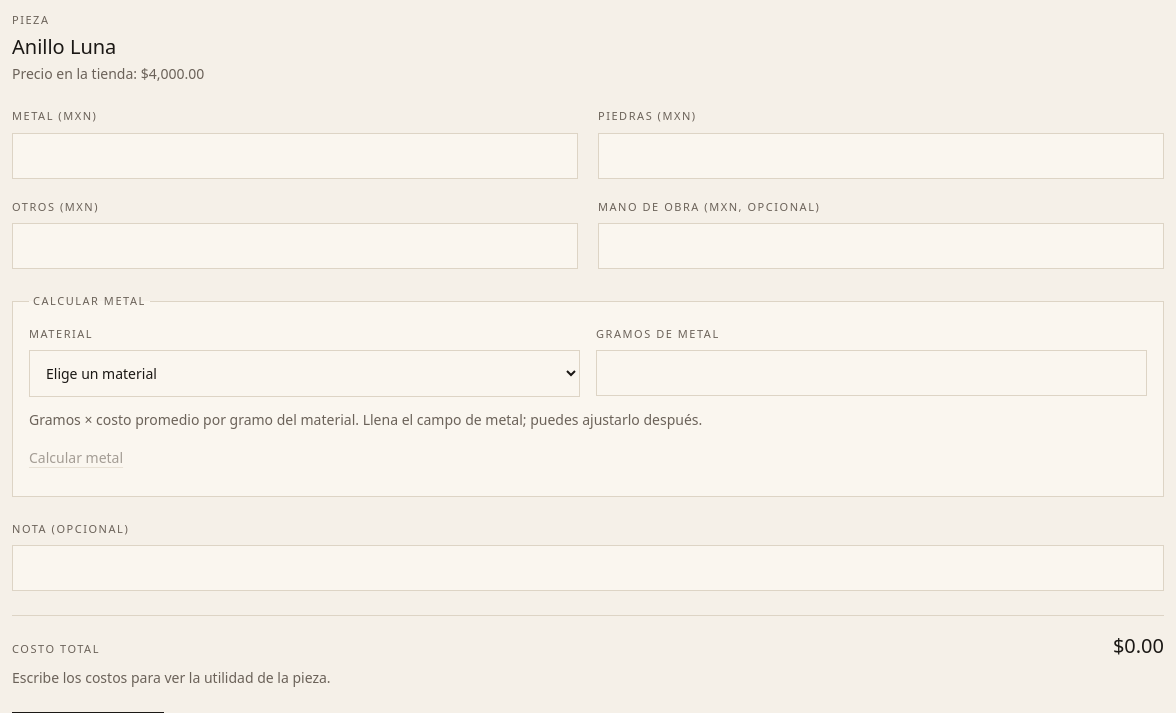
Test case: PieceCostForm: Calcular metal › rounds to the centavo, half up
Select "Plata fina · $18.00 / g" in the dropdown labelled "Material" at (304, 374), box [29,350,580,397]
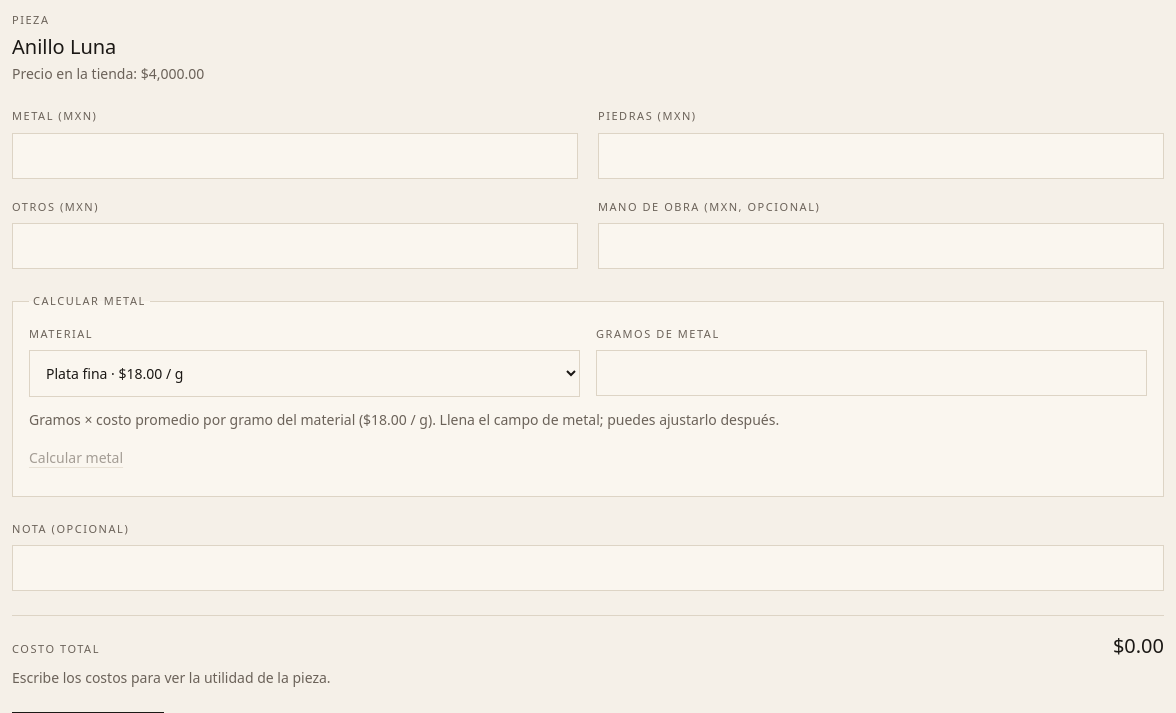
Type "3.333" into the number field labelled "Gramos de metal".
click(872, 373); type("3.333")  # box [596,350,1147,396]
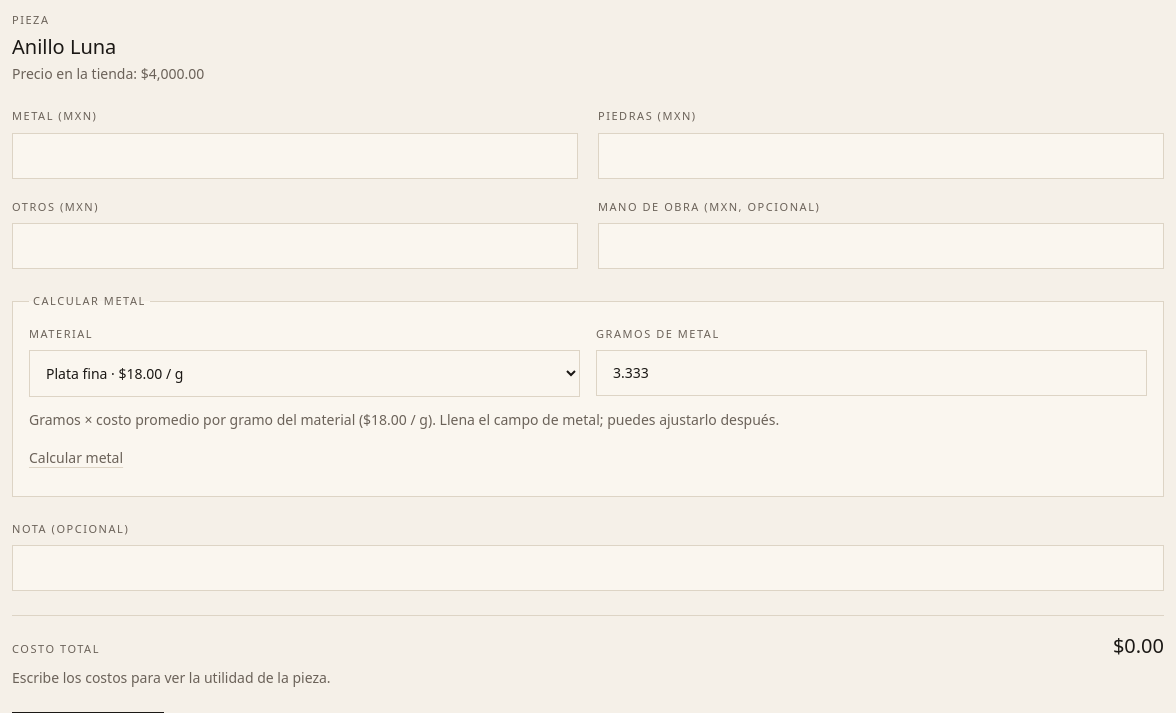
Click the button "Calcular metal".
click(76, 458)  # box [29,436,123,480]
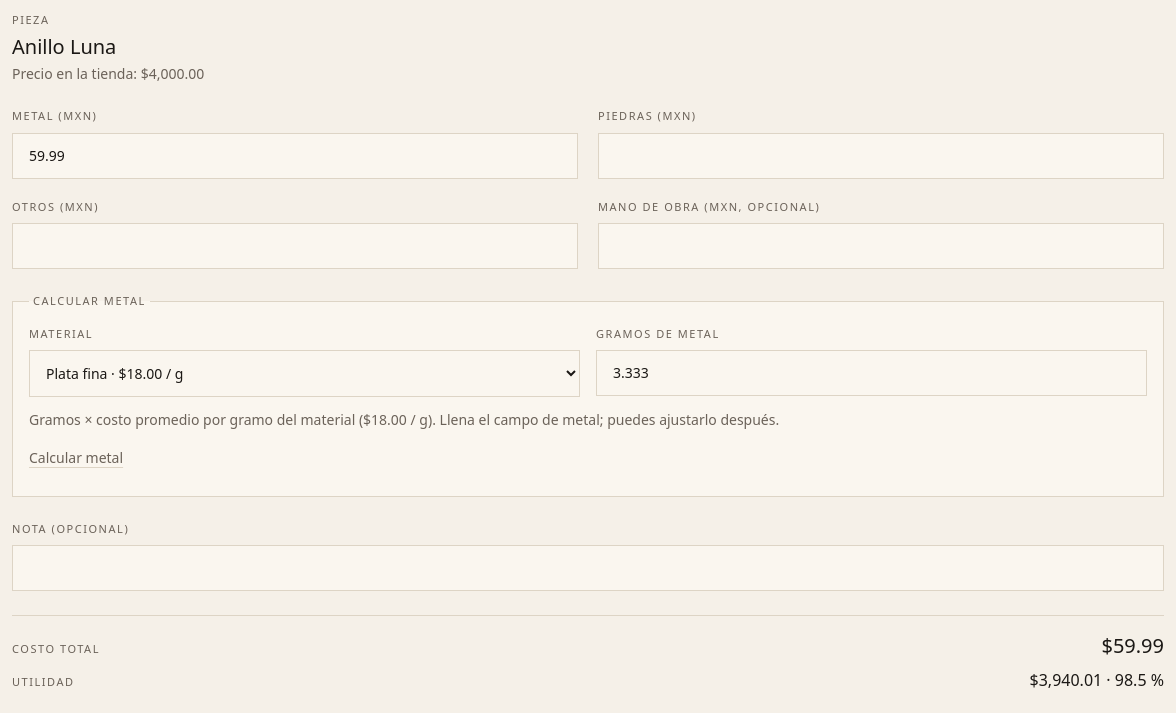
Now the number field labelled "Metal (MXN)" holds "59.99", box [12,132,578,178]
